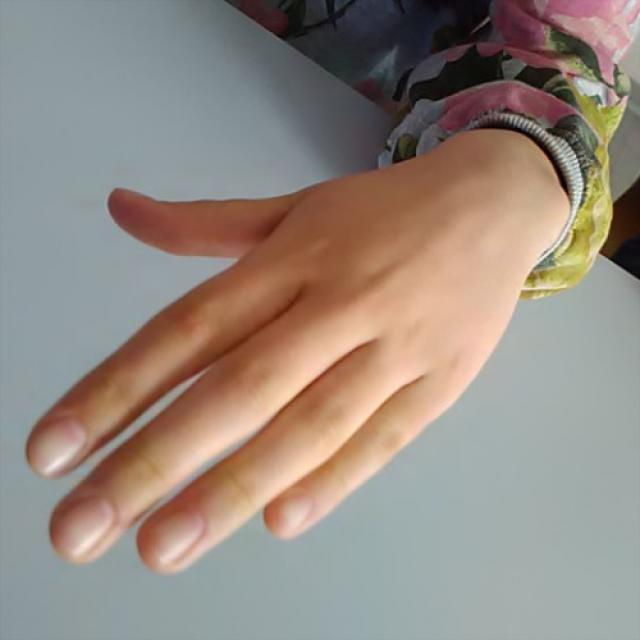paper: (29, 182, 478, 579)
